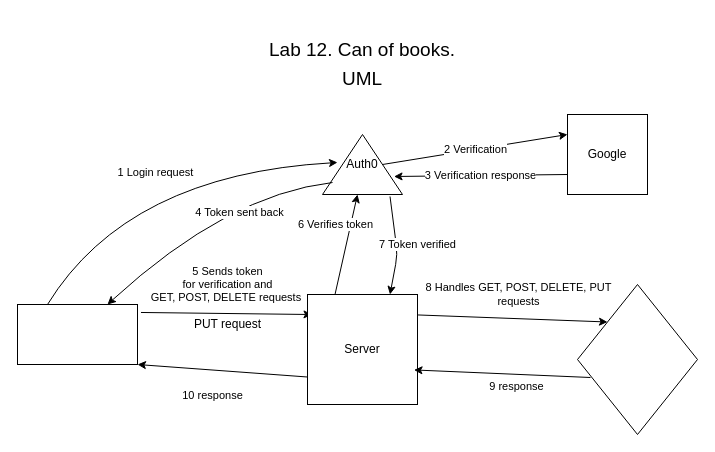
Image size: 715x452. Some labels were removed from this diagram. The shapes that lost their labels are listed below. From the top down, each one's centre as x and y in pixels, then its label:
[77,334]: Client
[637,359]: MongoDB
